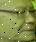without_mask: (2, 2, 36, 42)
